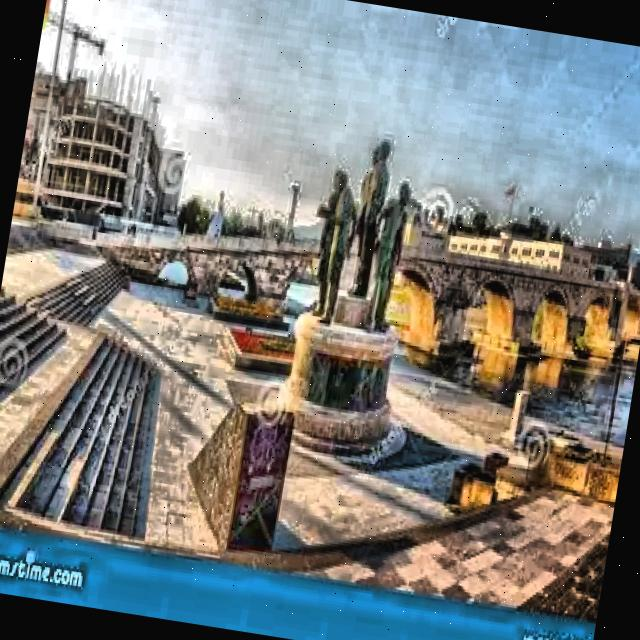stone bridge: (94, 184, 640, 370)
